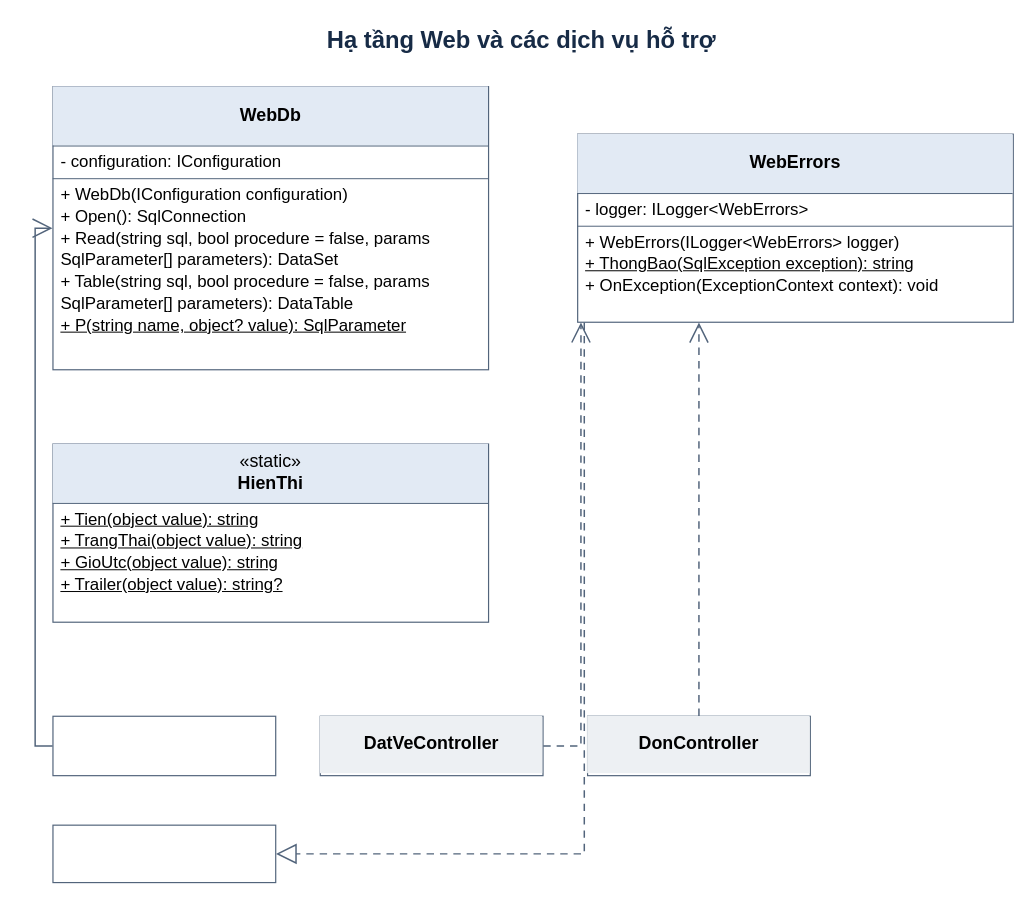
Image size: 1036x900. Some labels were removed from this diagram. Here are the shapes that lost their labels. From the top down, the centre of each, then its label:
At point (164, 745): "TaiKhoanData".
At point (164, 853): "«interface» IExceptionFilter".
